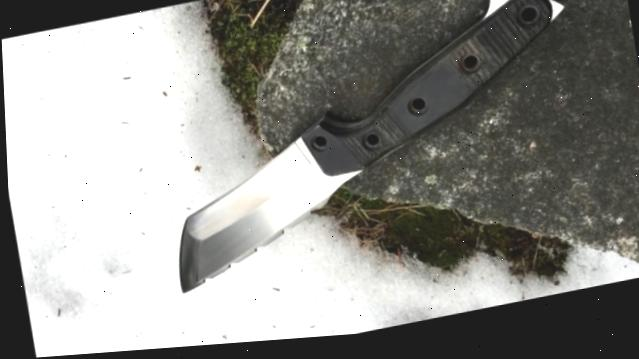pocket-knife: (135, 0, 608, 298)
